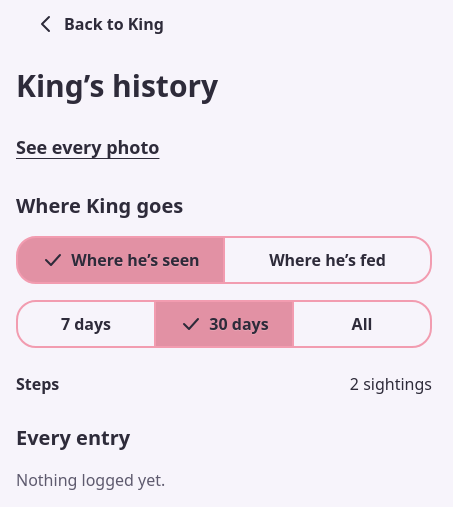
Scenario: HistoryPage — heat map › names fed cells after their spot and counts feedings
Expected: the list item is shown, [16,373,432,395]
Click the button "Where he’s fed".
click(328, 260)  # box [223,236,432,284]
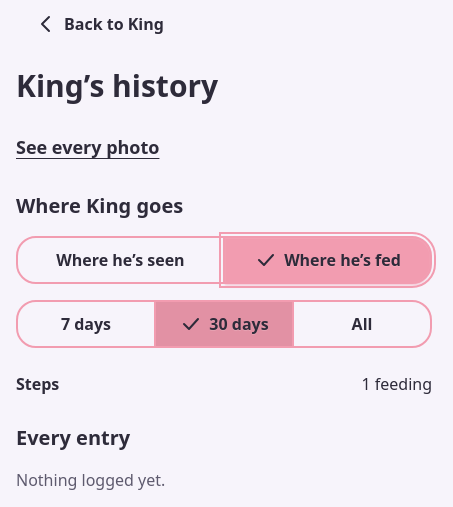
Expected: the text "Steps" is shown, [16,372,59,396]
Now the text "1 feeding" is shown, box [361,372,432,396]
